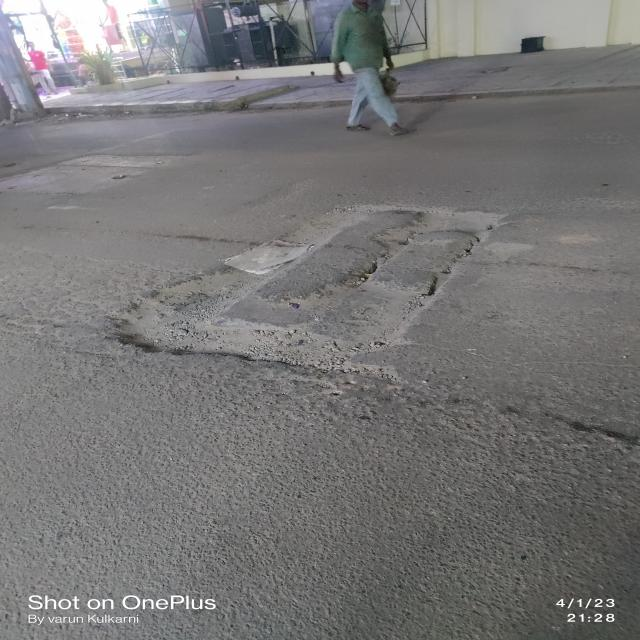potholes: (126, 204, 482, 387)
